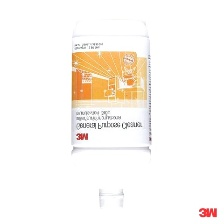cleaning_solution: (68, 16, 154, 212)
